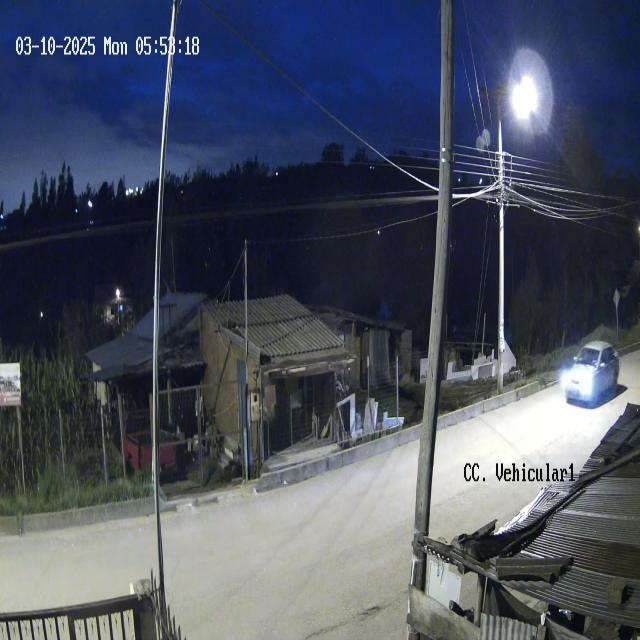SED: (564, 340, 621, 410)
